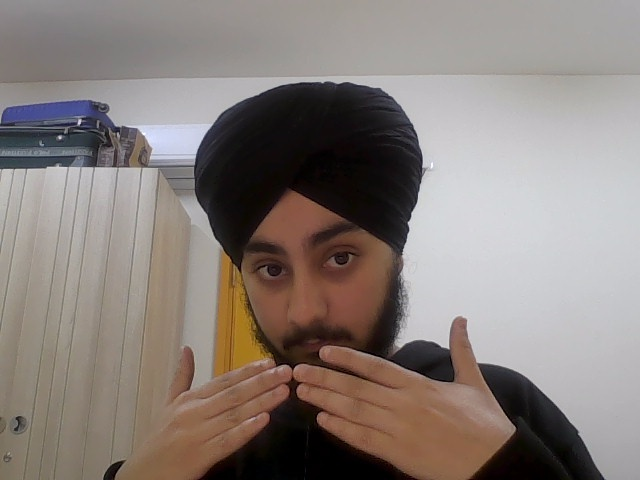Thanks: (111, 312, 516, 480)
